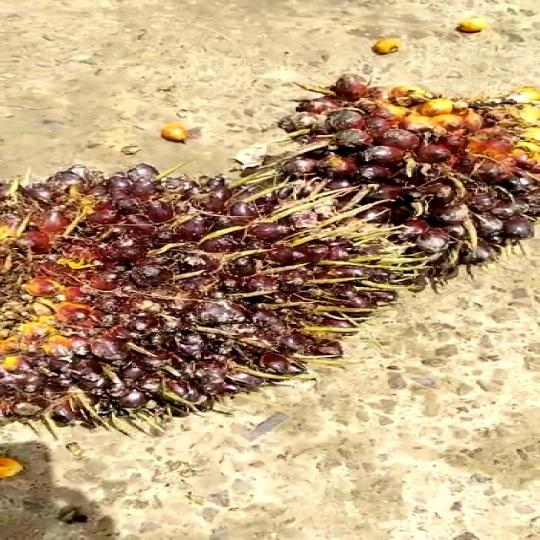kurang masak: (0, 150, 408, 426), (274, 65, 540, 272)
